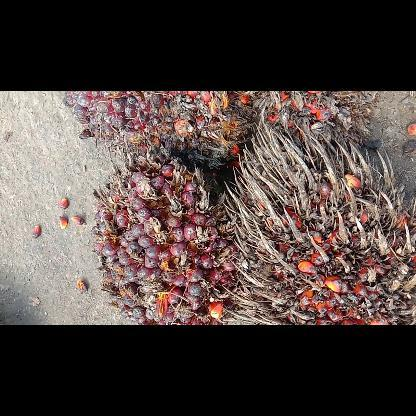TBS masak: (92, 154, 240, 324), (63, 91, 254, 165)
Terlalu masak: (221, 124, 415, 324), (241, 91, 375, 147)
